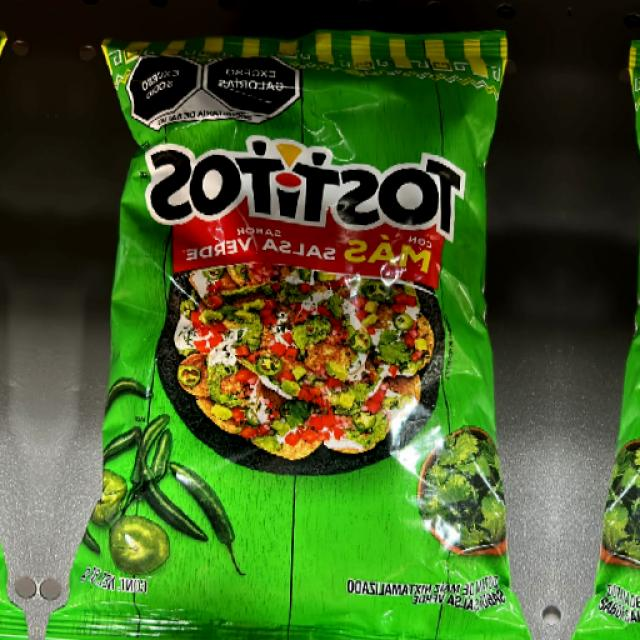tostitos: (132, 71, 473, 591)
